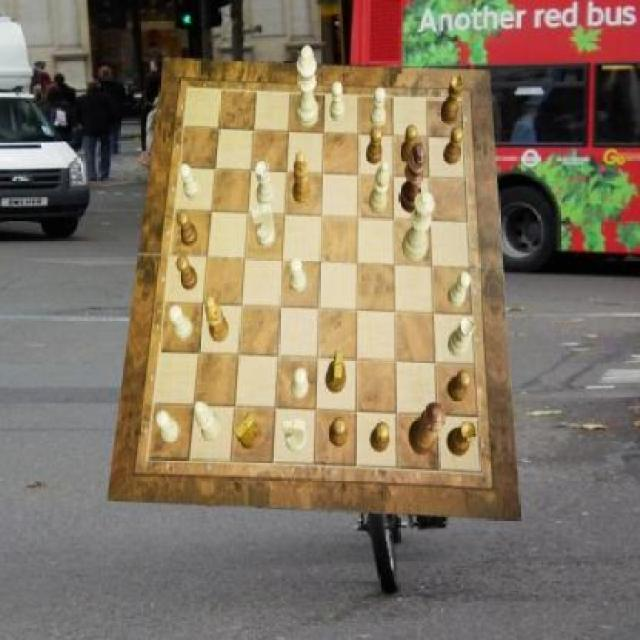bishop: (204, 296, 228, 342), (292, 152, 312, 205)
black-bishop: (400, 143, 428, 214)
black-king: (234, 412, 260, 450), (326, 351, 346, 393)
black-knight: (175, 255, 198, 290), (443, 126, 463, 165), (177, 211, 198, 247), (448, 371, 470, 403), (400, 126, 418, 165), (366, 126, 382, 165), (371, 422, 391, 452), (331, 417, 348, 448)
black-pawn: (409, 402, 446, 456)
black-queen: (440, 76, 463, 124), (448, 420, 478, 456)
black-rook: (369, 160, 390, 214), (194, 402, 221, 443)
white-bishop: (295, 45, 318, 127)
white-king: (252, 204, 277, 248), (283, 417, 308, 451)
white-knight: (169, 305, 193, 339), (448, 272, 470, 308), (156, 411, 180, 443), (180, 164, 200, 200), (370, 88, 386, 128), (290, 257, 308, 291), (331, 83, 346, 122), (291, 368, 308, 400)
white-pawn: (402, 191, 434, 260)
white-queen: (448, 317, 474, 357), (256, 160, 276, 206)
